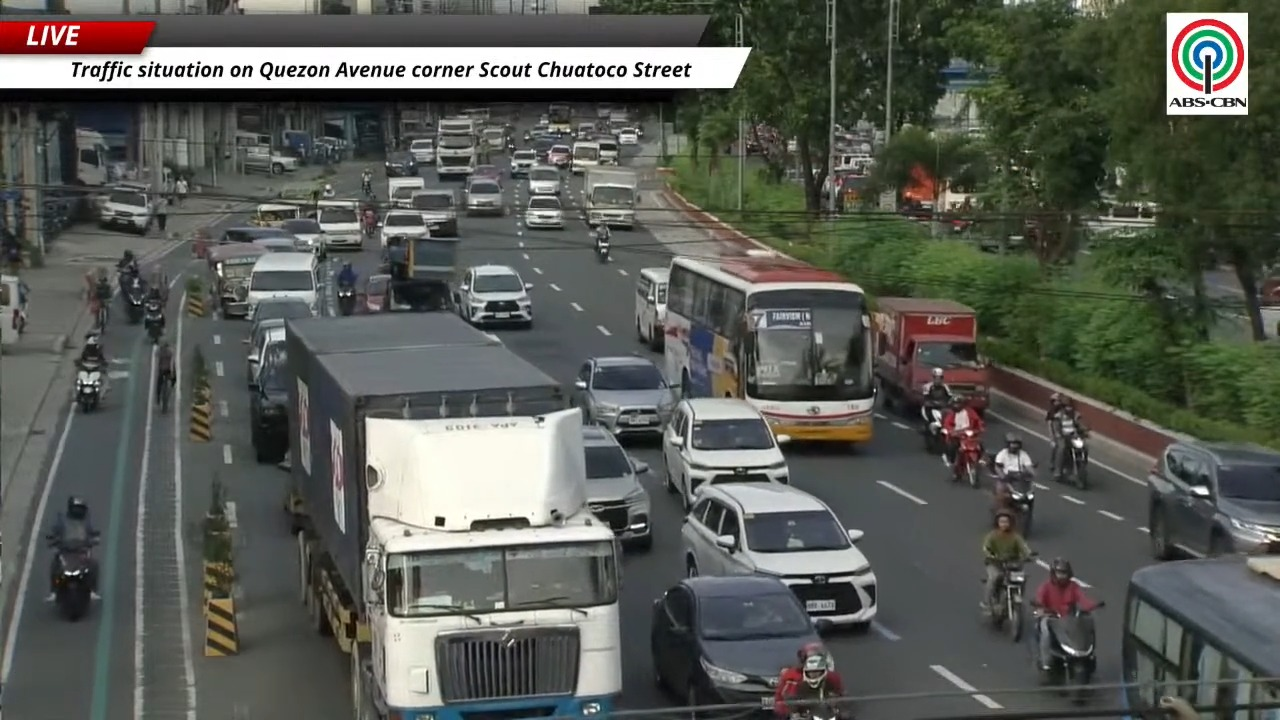bus: (664, 256, 875, 442), (1121, 556, 1279, 719)
car: (681, 483, 877, 629), (650, 576, 824, 713), (1147, 441, 1279, 559), (661, 398, 789, 509), (582, 426, 651, 550), (573, 356, 676, 434), (456, 265, 532, 327), (249, 342, 288, 462), (635, 267, 669, 351), (99, 183, 154, 234), (246, 319, 285, 386), (410, 188, 456, 236), (250, 297, 313, 331), (380, 210, 428, 248), (464, 177, 504, 215), (280, 218, 324, 252), (523, 194, 563, 228), (219, 226, 292, 243), (361, 275, 389, 312), (528, 166, 562, 195), (384, 150, 418, 177), (253, 237, 308, 252), (408, 138, 434, 165), (531, 136, 557, 162), (511, 149, 536, 176), (596, 136, 619, 164), (471, 164, 502, 184), (547, 144, 571, 167), (524, 123, 548, 141), (617, 127, 639, 145)
motorcycle: (1036, 607, 1095, 703), (47, 536, 95, 621), (988, 562, 1026, 642), (998, 472, 1034, 536), (1058, 427, 1088, 489), (951, 429, 982, 487), (75, 362, 102, 412), (921, 405, 945, 454), (790, 701, 849, 719), (125, 283, 146, 325), (143, 306, 164, 344), (337, 285, 355, 316), (595, 236, 610, 262), (362, 217, 377, 238), (361, 180, 374, 200)
truck: (286, 313, 620, 719), (872, 297, 990, 413), (583, 166, 638, 228), (435, 117, 481, 176), (75, 127, 116, 187)
